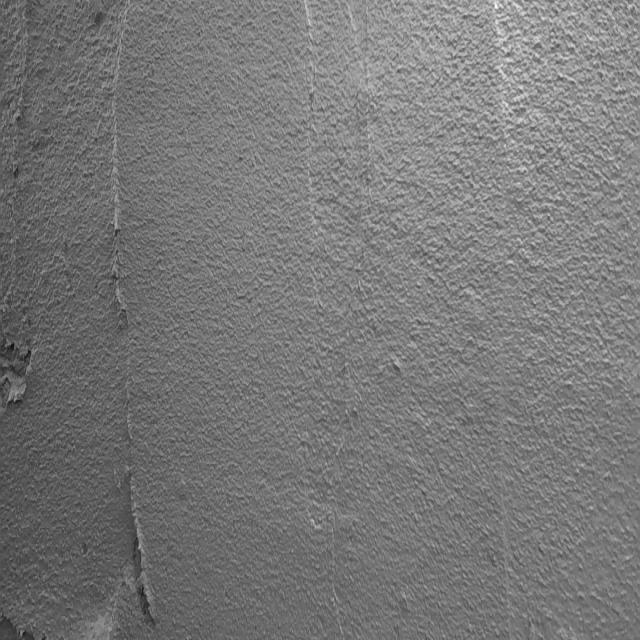trowels marks: (101, 8, 164, 640)
